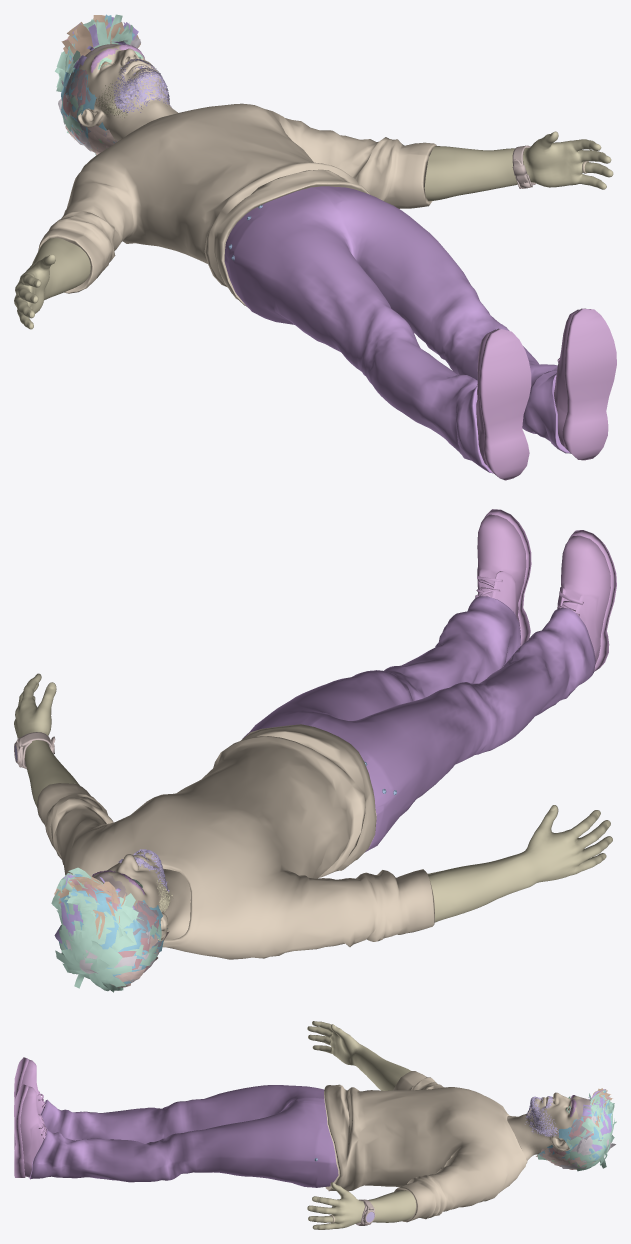
Rendered from drake_sco_outro_nobones.fbx.
3 views of the same model, one above another, from view 1: azimuth 30°, elevation 25°; view 2: azimuth 150°, elevation 25°; view 3: azimuth 270°, elevation 25° (orthographic). The views are drawn at different scales.
Visible parts, largest first — view 1: hero-scotland-outro.004, hero-kingsbay-shirt, hero-scotland-outro.006, hero-scotland-outro.003, hero-island-head, hero-island-head.002, hero-island-head.017, hero-island-head.020, hero-island-head.019, hero-island-head.021; view 2: hero-kingsbay-shirt, hero-scotland-outro.004, hero-scotland-outro.003, hero-scotland-outro.006, hero-island-head.017, hero-island-head, hero-island-head.019, hero-island-head.020, hero-island-head.011; view 3: hero-scotland-outro.004, hero-kingsbay-shirt, hero-scotland-outro.003, hero-scotland-outro.006, hero-island-head, hero-island-head.017, hero-island-head.002, hero-island-head.019, hero-island-head.021, hero-island-head.018, hero-island-head.014.
Boxes of the visible parts, box(x1,y1,x2,y2) form: hero-scotland-outro.004: box(224, 186, 570, 473); hero-kingsbay-shirt: box(38, 103, 436, 307); hero-scotland-outro.006: box(476, 308, 616, 480); hero-scotland-outro.003: box(14, 131, 613, 329); hero-island-head: box(77, 45, 177, 141); hero-island-head.002: box(112, 58, 172, 113); hero-island-head.017: box(55, 14, 133, 155); hero-island-head.020: box(61, 15, 140, 63); hero-island-head.019: box(60, 14, 134, 148); hero-island-head.021: box(65, 95, 117, 155); hero-kingsbay-shirt: box(37, 724, 434, 959); hero-scotland-outro.004: box(242, 596, 595, 852); hero-scotland-outro.003: box(14, 673, 612, 922); hero-scotland-outro.006: box(475, 509, 616, 671); hero-island-head.017: box(51, 867, 161, 992); hero-island-head: box(92, 851, 190, 940); hero-island-head.019: box(59, 874, 167, 983); hero-island-head.020: box(54, 876, 125, 939); hero-island-head.011: box(54, 879, 158, 971); hero-scotland-outro.004: box(29, 1085, 338, 1187); hero-kingsbay-shirt: box(324, 1071, 527, 1222); hero-scotland-outro.003: box(307, 1021, 415, 1229); hero-scotland-outro.006: box(14, 1057, 47, 1177); hero-island-head: box(507, 1092, 580, 1160); hero-island-head.017: box(537, 1090, 616, 1171); hero-island-head.002: box(525, 1096, 558, 1137); hero-island-head.019: box(538, 1090, 612, 1160); hero-island-head.021: box(536, 1146, 594, 1169); hero-island-head.018: box(582, 1089, 611, 1151); hero-island-head.014: box(559, 1116, 615, 1168).
Size of the model in its own units: 138 by 38.59 by 191.
